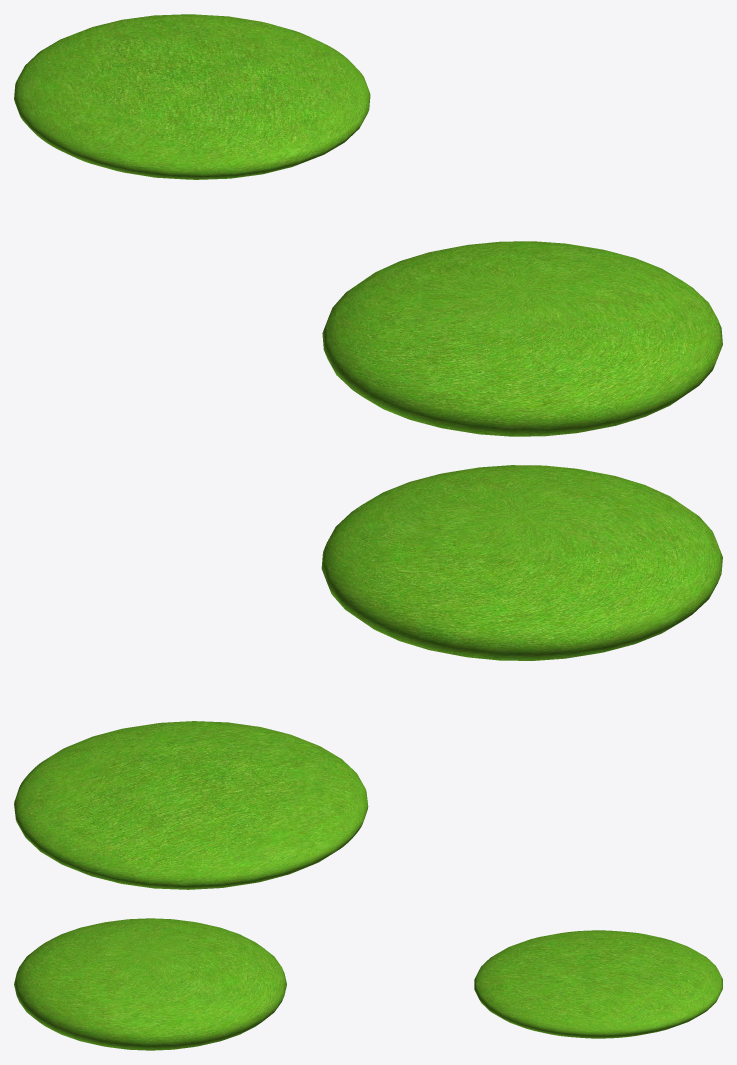
Rendered from Test_1_GrassGround.fbx.
3 renders of one model, top to bottom at view 1: azimuth 30°, elevation 25°; view 2: azimuth 150°, elevation 25°; view 3: azimuth 270°, elevation 25°, orthographic. The views are drawn at different scales.
Parts seen in each view (by area): view 1: 球.001, 球; view 2: 球.001, 球; view 3: 球.001, 球.
Part boxes in pixels (bbox=[...]): 球.001: bbox=[322, 241, 722, 436]; 球: bbox=[14, 14, 370, 179]; 球.001: bbox=[321, 465, 722, 660]; 球: bbox=[14, 721, 368, 889]; 球.001: bbox=[14, 918, 286, 1050]; 球: bbox=[474, 930, 722, 1038].
Bounding box in the file's own units: 174 × 46.9 × 454.
